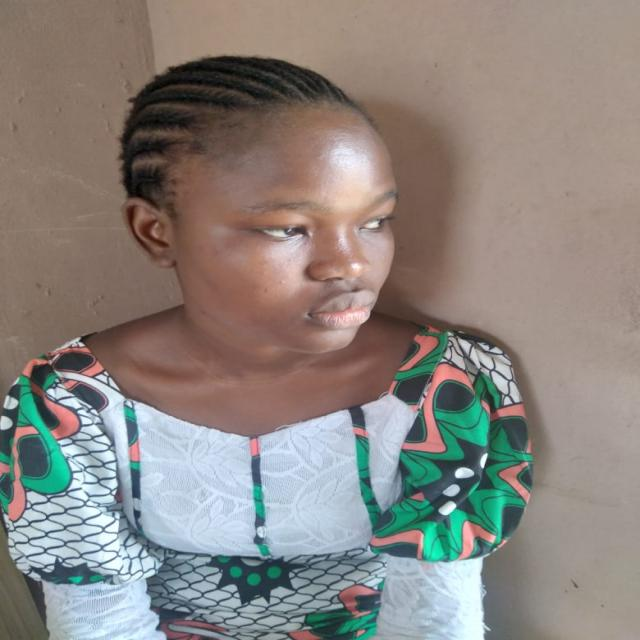sad: (136, 64, 407, 358)
